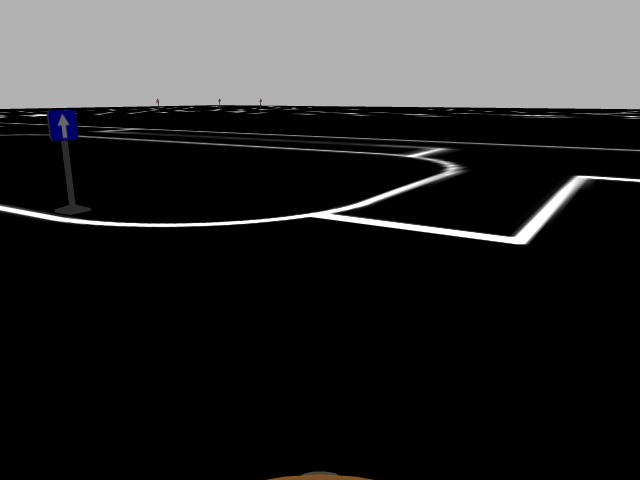oneway: (46, 109, 81, 146)
